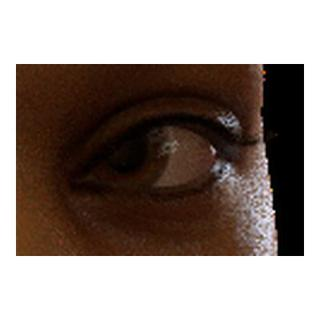pupil: (103, 129, 147, 172)
